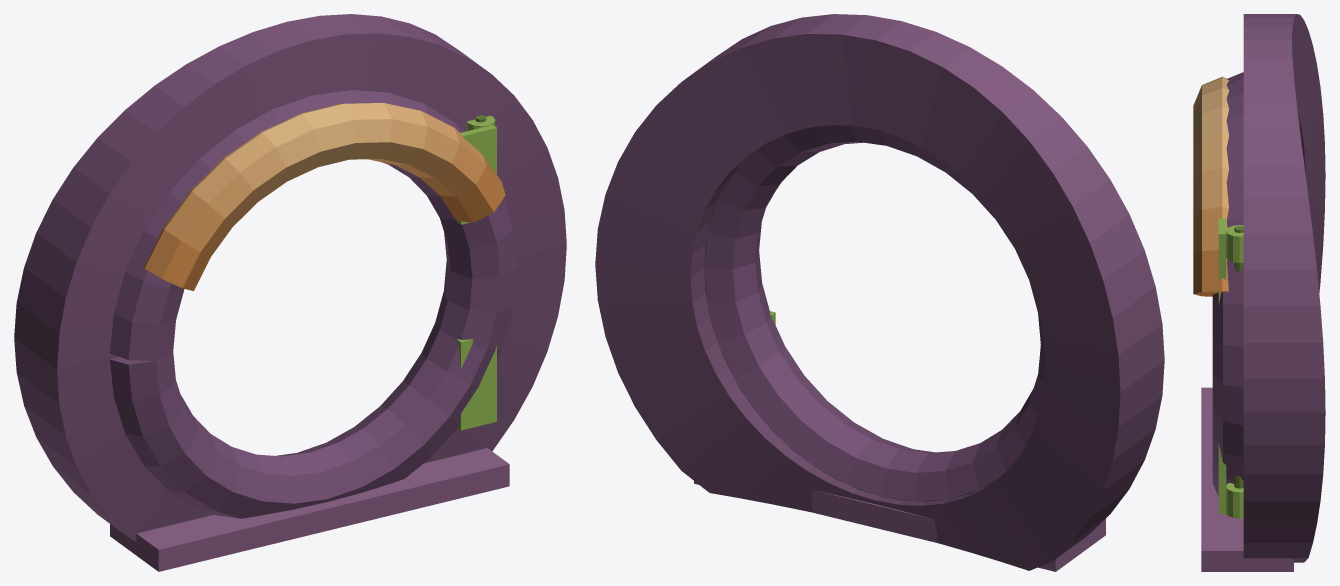
File: goo_jar_door@haunted.fbx
3 renders of one model, left to right at view 1: azimuth 30°, elevation 25°; view 2: azimuth 150°, elevation 25°; view 3: azimuth 270°, elevation 25°, orthographic. The views are drawn at different scales.
Visible parts, largest first — view 1: goo_jar_door; view 2: goo_jar_door; view 3: goo_jar_door.
Part boxes in pixels (<box>): goo_jar_door: <box>14,14,566,571</box>; goo_jar_door: <box>595,14,1164,571</box>; goo_jar_door: <box>1193,14,1325,571</box>.
Bounding box in the file's own units: 14.52 × 13.06 × 3.42.
